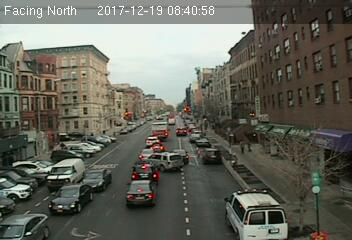car: (46, 182, 92, 212), (127, 178, 158, 208), (79, 166, 113, 192), (131, 162, 160, 181), (202, 146, 221, 164), (139, 148, 154, 160), (149, 143, 164, 152), (174, 127, 186, 136)
police: (223, 187, 289, 240)
truck: (46, 157, 83, 185)
